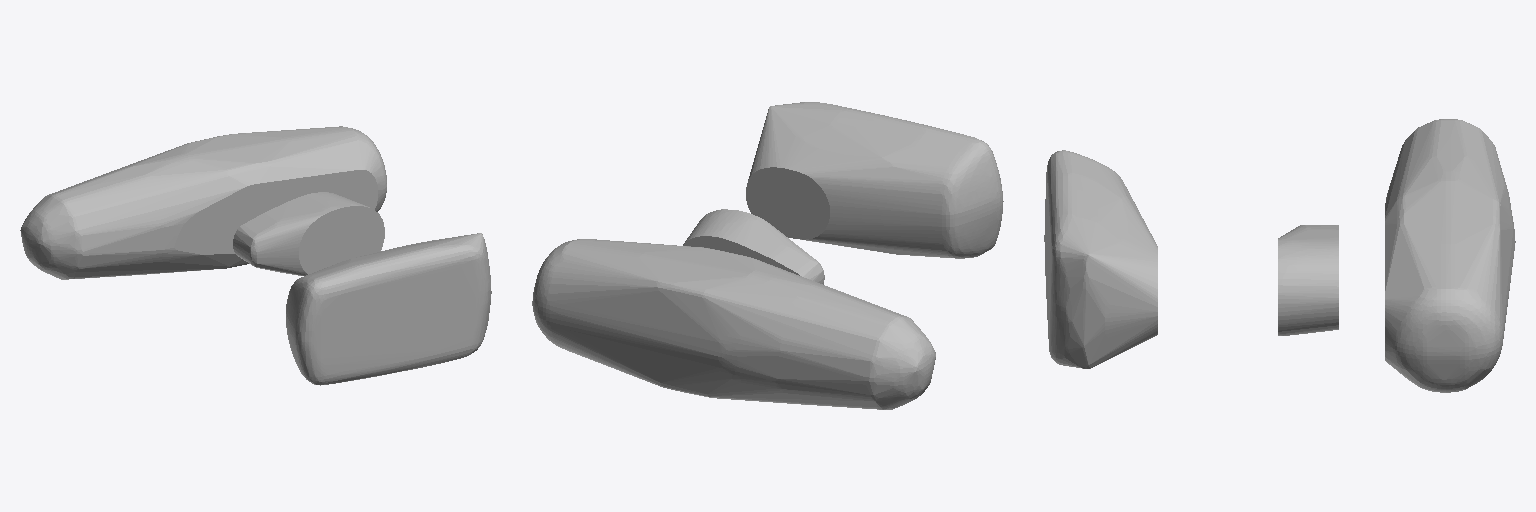
URDF robot description (root):
<robot name="root">
  <link name="link_coacd_convex_piece_0">
    <inertial>
      <origin xyz="0 0 0" rpy="0 0 0"/>
      <inertia ixx="8.97E-07" ixy="2.43E-07" ixz="-2.64E-09" iyy="1.70E-07" iyz="-8.42E-10" izz="1.01E-06"/>
    </inertial>
    <visual>
      <origin xyz="0 0 0" rpy="0 0 0"/>
      <geometry>
        <mesh filename="coacd_convex_piece_0.obj" scale="1.0000E+00 1.0000E+00 1.0000E+00"/>
      </geometry>
      <material name="">
        <color rgba="7.50E-01 7.50E-01 7.50E-01 1"/>
      </material>
    </visual>
    <collision>
      <origin xyz="0 0 0" rpy="0 0 0"/>
      <geometry>
        <mesh filename="coacd_convex_piece_0.obj" scale="1.0000E+00 1.0000E+00 1.0000E+00"/>
      </geometry>
    </collision>
  </link>
  <link name="link_coacd_convex_piece_1">
    <inertial>
      <origin xyz="0 0 0" rpy="0 0 0"/>
      <inertia ixx="4.50E-08" ixy="-3.03E-08" ixz="2.80E-09" iyy="5.13E-08" iyz="3.20E-09" izz="8.86E-08"/>
    </inertial>
    <visual>
      <origin xyz="0 0 0" rpy="0 0 0"/>
      <geometry>
        <mesh filename="coacd_convex_piece_1.obj" scale="1.0000E+00 1.0000E+00 1.0000E+00"/>
      </geometry>
      <material name="">
        <color rgba="7.50E-01 7.50E-01 7.50E-01 1"/>
      </material>
    </visual>
    <collision>
      <origin xyz="0 0 0" rpy="0 0 0"/>
      <geometry>
        <mesh filename="coacd_convex_piece_1.obj" scale="1.0000E+00 1.0000E+00 1.0000E+00"/>
      </geometry>
    </collision>
  </link>
  <joint name="link_coacd_convex_piece_1_joint" type="fixed">
    <origin xyz="0 0 0" rpy="0 0 0"/>
    <parent link="link_coacd_convex_piece_0"/>
    <child link="link_coacd_convex_piece_1"/>
  </joint>
  <link name="link_coacd_convex_piece_2">
    <inertial>
      <origin xyz="0 0 0" rpy="0 0 0"/>
      <inertia ixx="1.36E-06" ixy="-4.22E-08" ixz="1.41E-08" iyy="6.34E-07" iyz="4.83E-08" izz="1.89E-06"/>
    </inertial>
    <visual>
      <origin xyz="0 0 0" rpy="0 0 0"/>
      <geometry>
        <mesh filename="coacd_convex_piece_2.obj" scale="1.0000E+00 1.0000E+00 1.0000E+00"/>
      </geometry>
      <material name="">
        <color rgba="7.50E-01 7.50E-01 7.50E-01 1"/>
      </material>
    </visual>
    <collision>
      <origin xyz="0 0 0" rpy="0 0 0"/>
      <geometry>
        <mesh filename="coacd_convex_piece_2.obj" scale="1.0000E+00 1.0000E+00 1.0000E+00"/>
      </geometry>
    </collision>
  </link>
  <joint name="link_coacd_convex_piece_2_joint" type="fixed">
    <origin xyz="0 0 0" rpy="0 0 0"/>
    <parent link="link_coacd_convex_piece_1"/>
    <child link="link_coacd_convex_piece_2"/>
  </joint>
  <link name="link_coacd_convex_piece_3">
    <inertial>
      <origin xyz="0 0 0" rpy="0 0 0"/>
      <inertia ixx="2.14E-09" ixy="-3.12E-09" ixz="1.35E-09" iyy="2.98E-08" iyz="3.72E-11" izz="2.68E-08"/>
    </inertial>
    <visual>
      <origin xyz="0 0 0" rpy="0 0 0"/>
      <geometry>
        <mesh filename="coacd_convex_piece_3.obj" scale="1.0000E+00 1.0000E+00 1.0000E+00"/>
      </geometry>
      <material name="">
        <color rgba="7.50E-01 7.50E-01 7.50E-01 1"/>
      </material>
    </visual>
    <collision>
      <origin xyz="0 0 0" rpy="0 0 0"/>
      <geometry>
        <mesh filename="coacd_convex_piece_3.obj" scale="1.0000E+00 1.0000E+00 1.0000E+00"/>
      </geometry>
    </collision>
  </link>
  <joint name="link_coacd_convex_piece_3_joint" type="fixed">
    <origin xyz="0 0 0" rpy="0 0 0"/>
    <parent link="link_coacd_convex_piece_2"/>
    <child link="link_coacd_convex_piece_3"/>
  </joint>
  <link name="link_coacd_convex_piece_4">
    <inertial>
      <origin xyz="0 0 0" rpy="0 0 0"/>
      <inertia ixx="3.44E-08" ixy="6.29E-08" ixz="2.36E-09" iyy="8.33E-08" iyz="-3.49E-09" izz="1.09E-07"/>
    </inertial>
    <visual>
      <origin xyz="0 0 0" rpy="0 0 0"/>
      <geometry>
        <mesh filename="coacd_convex_piece_4.obj" scale="1.0000E+00 1.0000E+00 1.0000E+00"/>
      </geometry>
      <material name="">
        <color rgba="7.50E-01 7.50E-01 7.50E-01 1"/>
      </material>
    </visual>
    <collision>
      <origin xyz="0 0 0" rpy="0 0 0"/>
      <geometry>
        <mesh filename="coacd_convex_piece_4.obj" scale="1.0000E+00 1.0000E+00 1.0000E+00"/>
      </geometry>
    </collision>
  </link>
  <joint name="link_coacd_convex_piece_4_joint" type="fixed">
    <origin xyz="0 0 0" rpy="0 0 0"/>
    <parent link="link_coacd_convex_piece_3"/>
    <child link="link_coacd_convex_piece_4"/>
  </joint>
</robot>

--- Render facts (derived) ---
3 views of the same robot in one strip: view 1: azimuth 30°, elevation 25°; view 2: azimuth 150°, elevation 25°; view 3: azimuth 270°, elevation 25° (orthographic).
Robot: root — 5 links, 4 joints (4 fixed); root link link_coacd_convex_piece_0; default pose: every joint at zero.
Links seen in each view (by area): view 1: link_coacd_convex_piece_2, link_coacd_convex_piece_0, link_coacd_convex_piece_3; view 2: link_coacd_convex_piece_2, link_coacd_convex_piece_0, link_coacd_convex_piece_3; view 3: link_coacd_convex_piece_2, link_coacd_convex_piece_0, link_coacd_convex_piece_3.
Boxes of the visible links, x1,y1,x2,y2 form: link_coacd_convex_piece_2: (20, 126, 386, 279); link_coacd_convex_piece_0: (286, 233, 491, 385); link_coacd_convex_piece_3: (233, 192, 384, 275); link_coacd_convex_piece_2: (532, 239, 935, 409); link_coacd_convex_piece_0: (746, 102, 1003, 258); link_coacd_convex_piece_3: (683, 209, 824, 284); link_coacd_convex_piece_2: (1385, 119, 1515, 392); link_coacd_convex_piece_0: (1044, 150, 1157, 368); link_coacd_convex_piece_3: (1278, 225, 1338, 335).
Bounding box of the posed robot: 0.1859 × 0.1891 × 0.0591 m (x, y, z).
3 mesh visuals loaded from 5 distinct referenced files (3 OBJ); not drawn: 2 (reference not matched to a file when rendering).